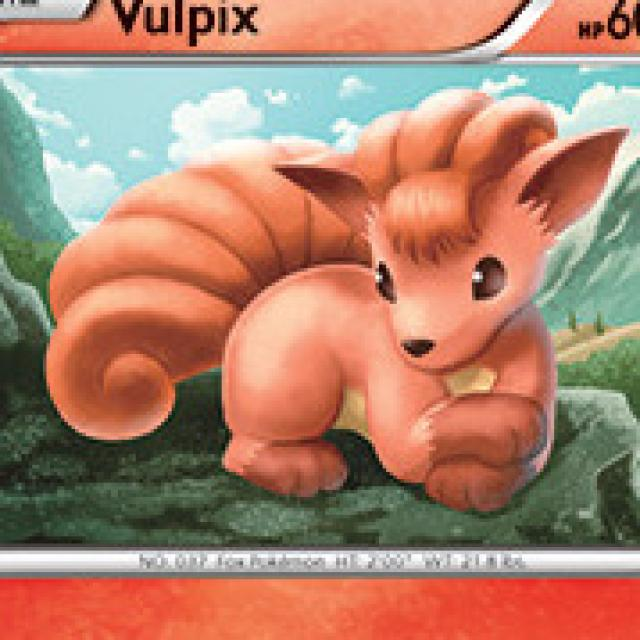Vulpix: (210, 102, 564, 516)
